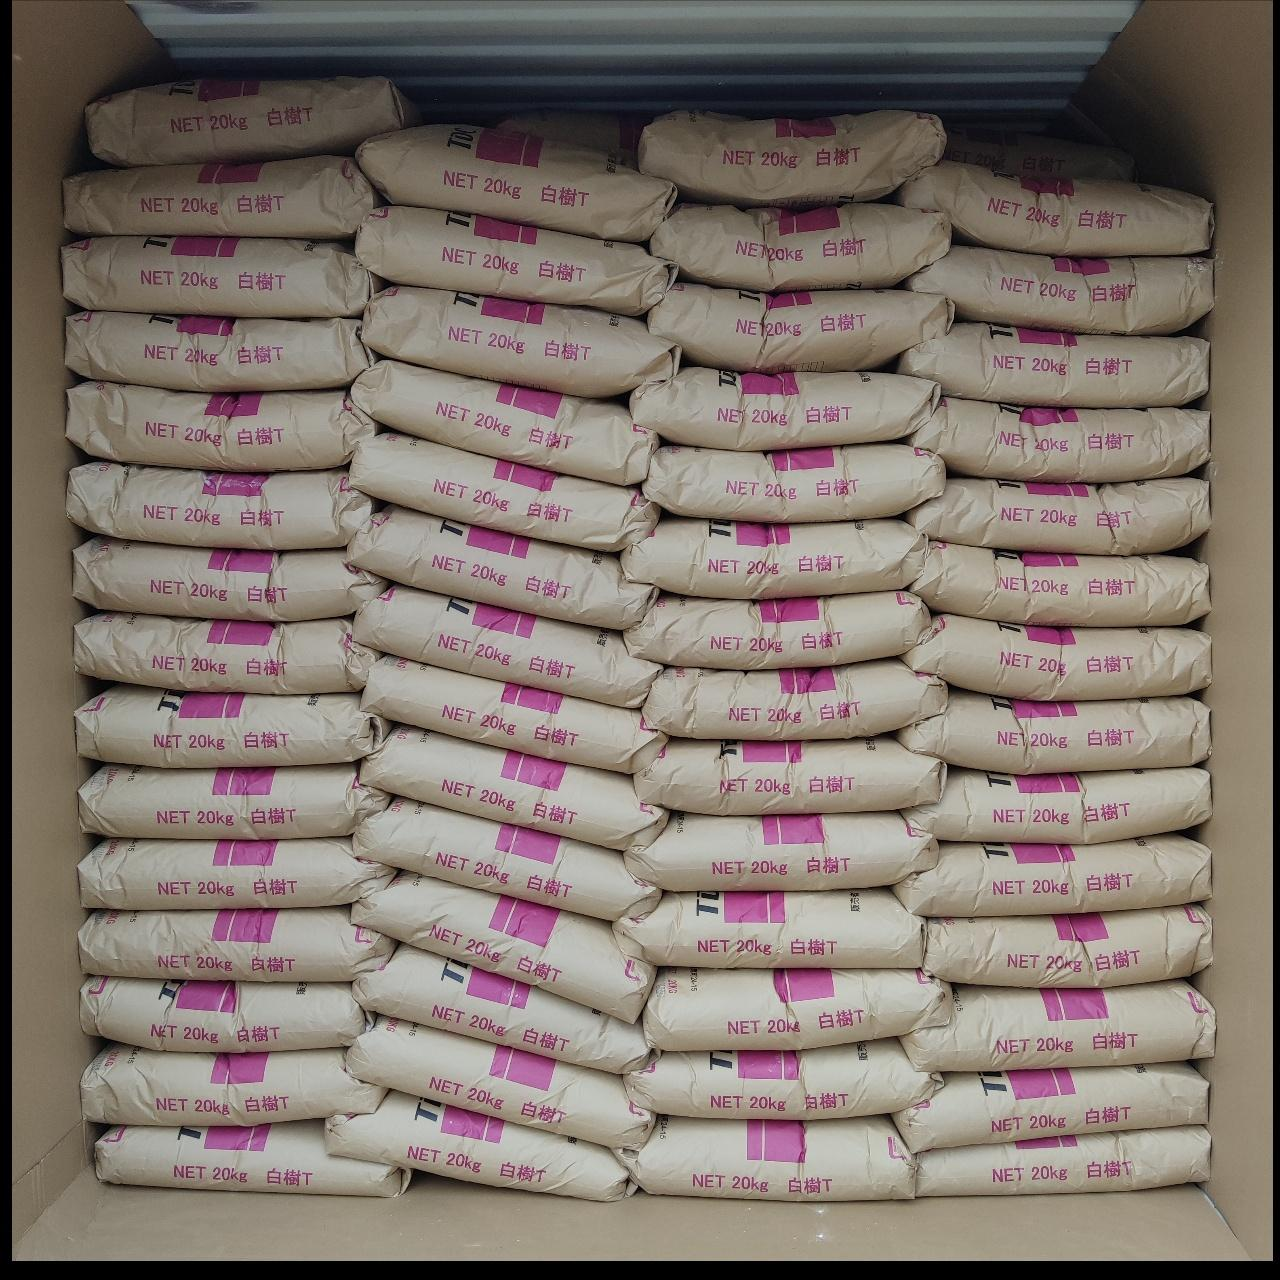sack: (352, 870, 654, 1021), (345, 1017, 654, 1150), (352, 359, 658, 484), (352, 944, 648, 1073), (347, 506, 655, 629), (361, 726, 665, 849), (352, 586, 661, 707), (353, 797, 659, 919), (358, 125, 676, 239), (352, 433, 659, 550), (362, 655, 668, 772), (363, 287, 680, 397), (356, 206, 675, 315), (325, 1090, 636, 1200), (86, 77, 418, 166), (638, 111, 946, 207), (66, 381, 376, 472), (896, 1062, 1208, 1152), (903, 166, 1212, 256), (67, 461, 375, 550), (910, 981, 1216, 1070), (72, 536, 389, 621), (648, 282, 953, 372), (908, 246, 1213, 334), (62, 156, 381, 239), (899, 689, 1210, 774), (649, 203, 951, 290), (901, 615, 1210, 700), (74, 685, 389, 767), (629, 367, 940, 450), (896, 833, 1210, 915), (62, 236, 380, 316), (625, 1039, 941, 1119), (617, 1115, 915, 1200), (911, 542, 1210, 627), (73, 612, 380, 695), (899, 324, 1208, 406), (642, 967, 951, 1049), (910, 397, 1208, 482), (66, 311, 374, 392), (626, 810, 938, 890), (91, 1119, 411, 1197), (81, 1046, 386, 1126), (635, 735, 946, 813), (617, 888, 922, 968), (79, 906, 397, 982), (642, 659, 947, 738), (622, 591, 930, 669), (627, 518, 927, 598), (79, 763, 390, 839), (908, 476, 1210, 554), (645, 443, 945, 522), (922, 905, 1210, 987), (80, 837, 396, 910), (918, 767, 1210, 843), (81, 976, 375, 1051), (915, 1126, 1210, 1197)
